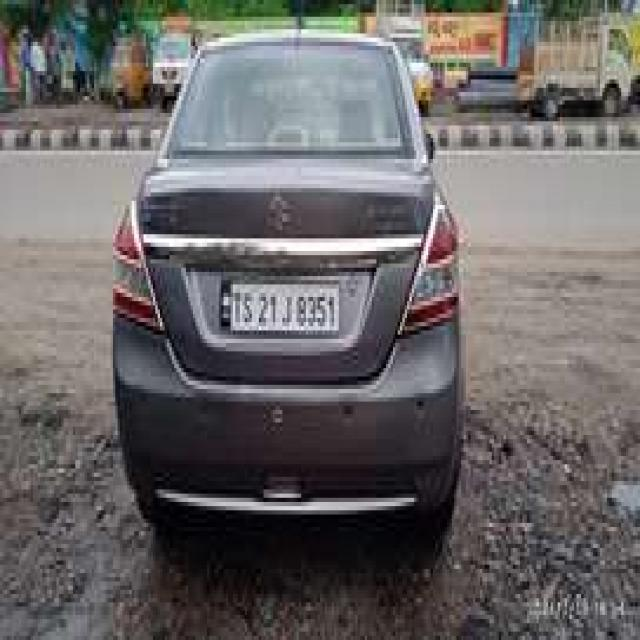Plate: (220, 277, 337, 327)
